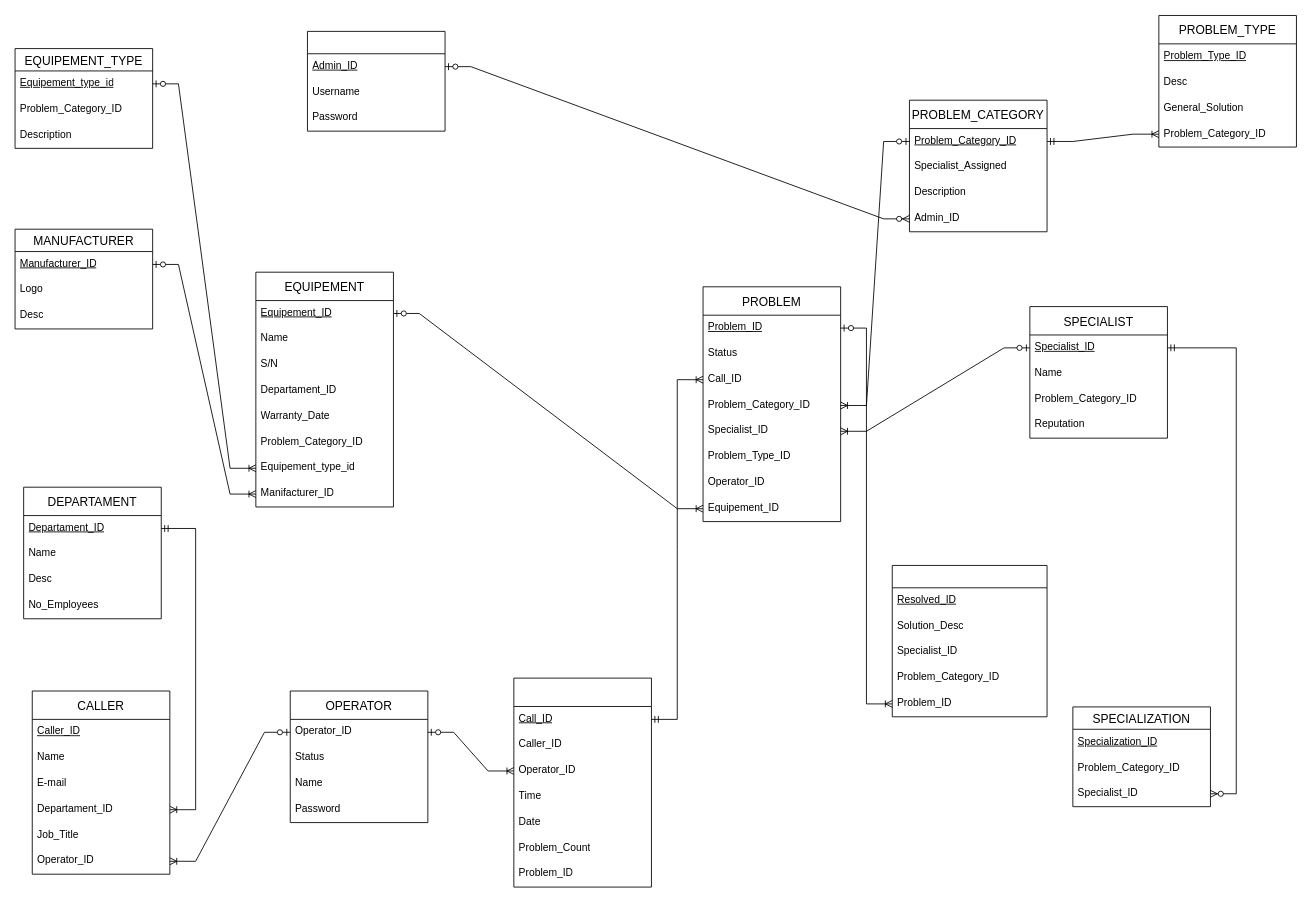
Some shapes in this 1312 by 904 pixel diagram are drawn without their labels. Here are the shapes that lost their labels. From the top down, the box of each, then its label:
(307, 31, 445, 131): ADMINISTRATOR
(891, 565, 1047, 717): RESOLVED_PROBLEM
(513, 677, 651, 887): CALL_LOG
